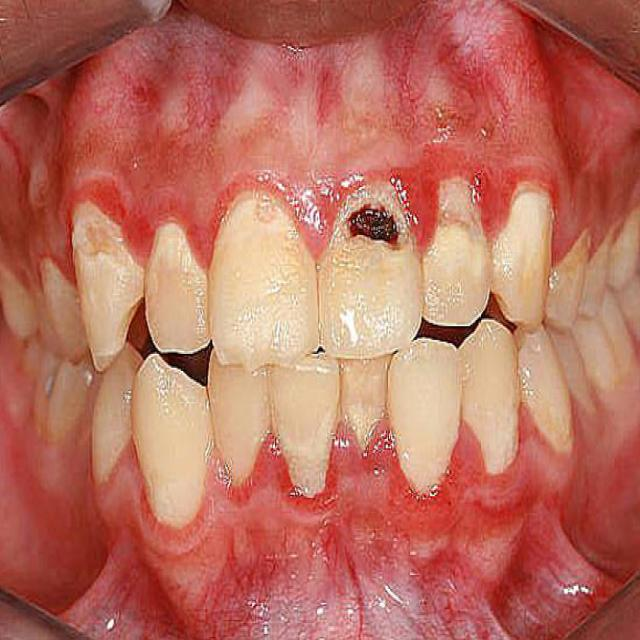caries: (347, 197, 400, 263)
